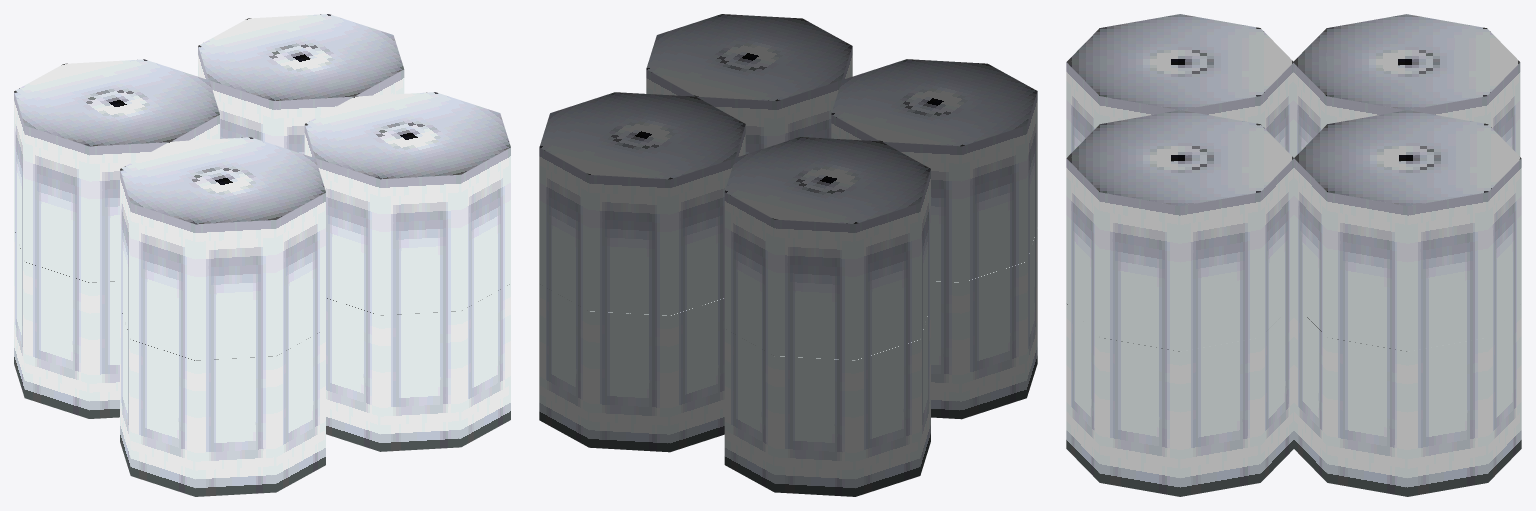
File: PgasbarrelsZ.obj
3 views of the same model, side by side, from view 1: azimuth 30°, elevation 25°; view 2: azimuth 150°, elevation 25°; view 3: azimuth 270°, elevation 25° (orthographic). The views are drawn at different scales.
Size of the model in its own units: 1680 by 1184 by 1680.
Materials: 2 (2 with a texture image).
